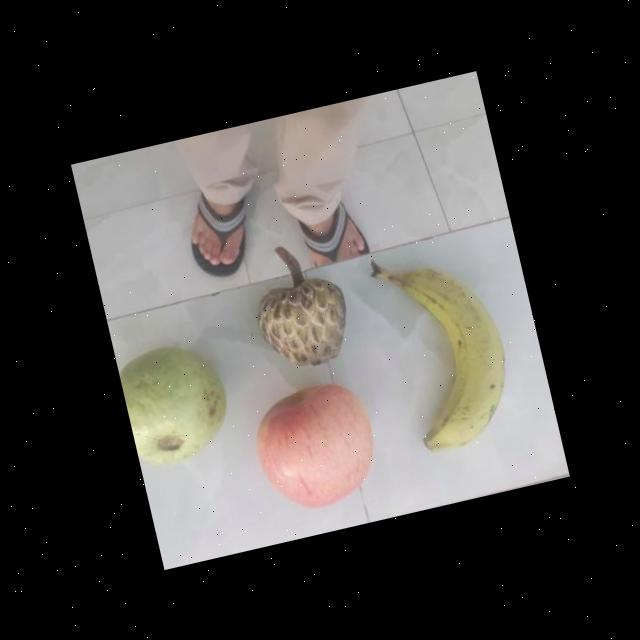Sakya fruit: (246, 270, 358, 382)
apple: (240, 376, 388, 519)
banana: (374, 248, 518, 458)
guava: (116, 339, 234, 469)
